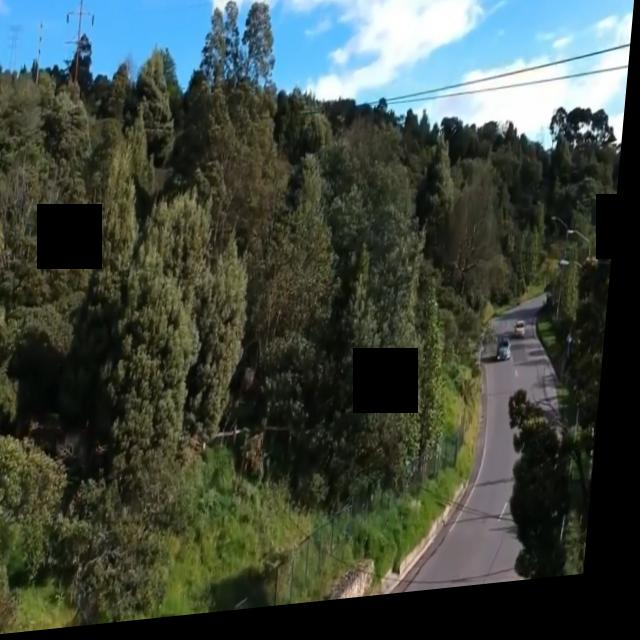Tree: (11, 68, 141, 588), (108, 185, 262, 537), (507, 245, 619, 595), (332, 234, 463, 521), (239, 146, 354, 464), (420, 123, 524, 341), (191, 0, 285, 203), (0, 186, 36, 640), (98, 52, 186, 206), (549, 112, 628, 265), (353, 111, 440, 245), (0, 16, 48, 198)
Vehicle: (494, 332, 525, 385), (520, 317, 535, 359)
